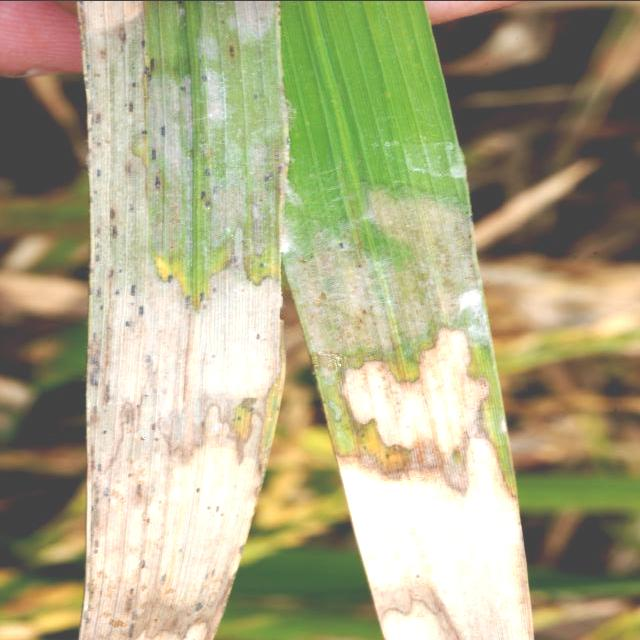Bacterial_Leaf_Blight: (76, 0, 296, 640), (332, 322, 536, 640)
